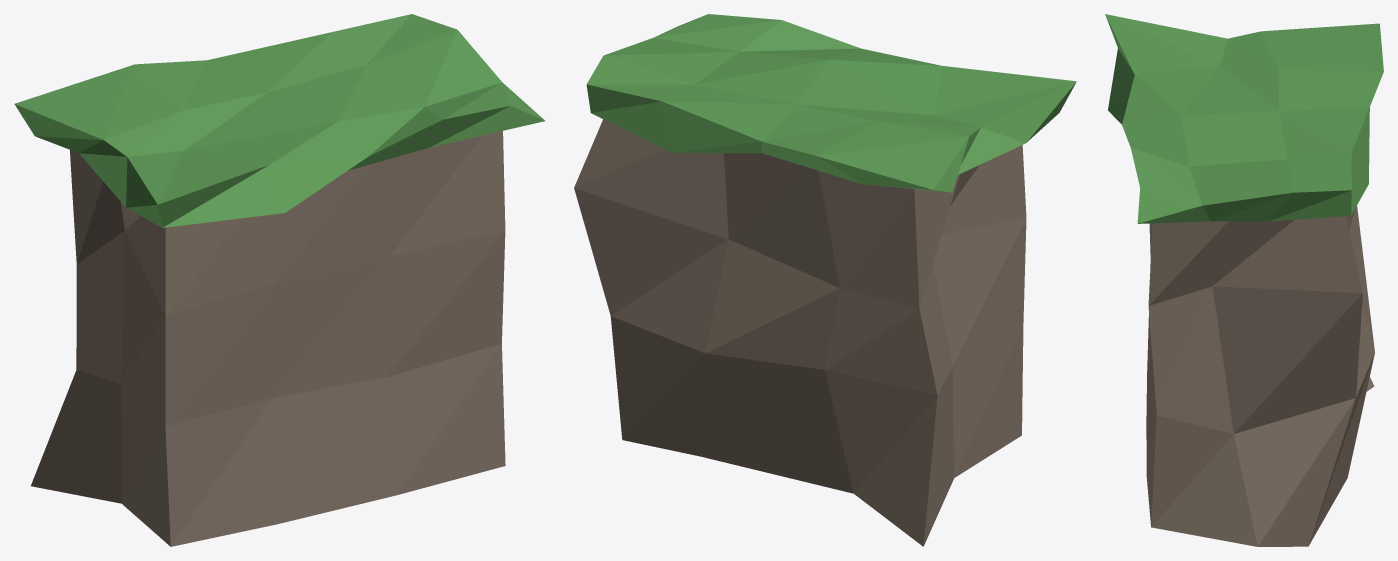
The model's file is cliff-edge-c.glb.
3 views of the same model, side by side, from view 1: azimuth 30°, elevation 25°; view 2: azimuth 150°, elevation 25°; view 3: azimuth 270°, elevation 25° (orthographic). The views are drawn at different scales.
Visible parts, largest first — view 1: rock, grass; view 2: rock, grass; view 3: rock, grass.
Part boxes in pixels (<box>): rock: <box>31,131,505,546</box>; grass: <box>14,14,544,227</box>; rock: <box>574,119,1026,546</box>; grass: <box>586,14,1076,192</box>; rock: <box>1146,206,1374,546</box>; grass: <box>1105,14,1383,223</box>.
Size of the model in its own units: 5.99 by 5.58 by 3.84.
